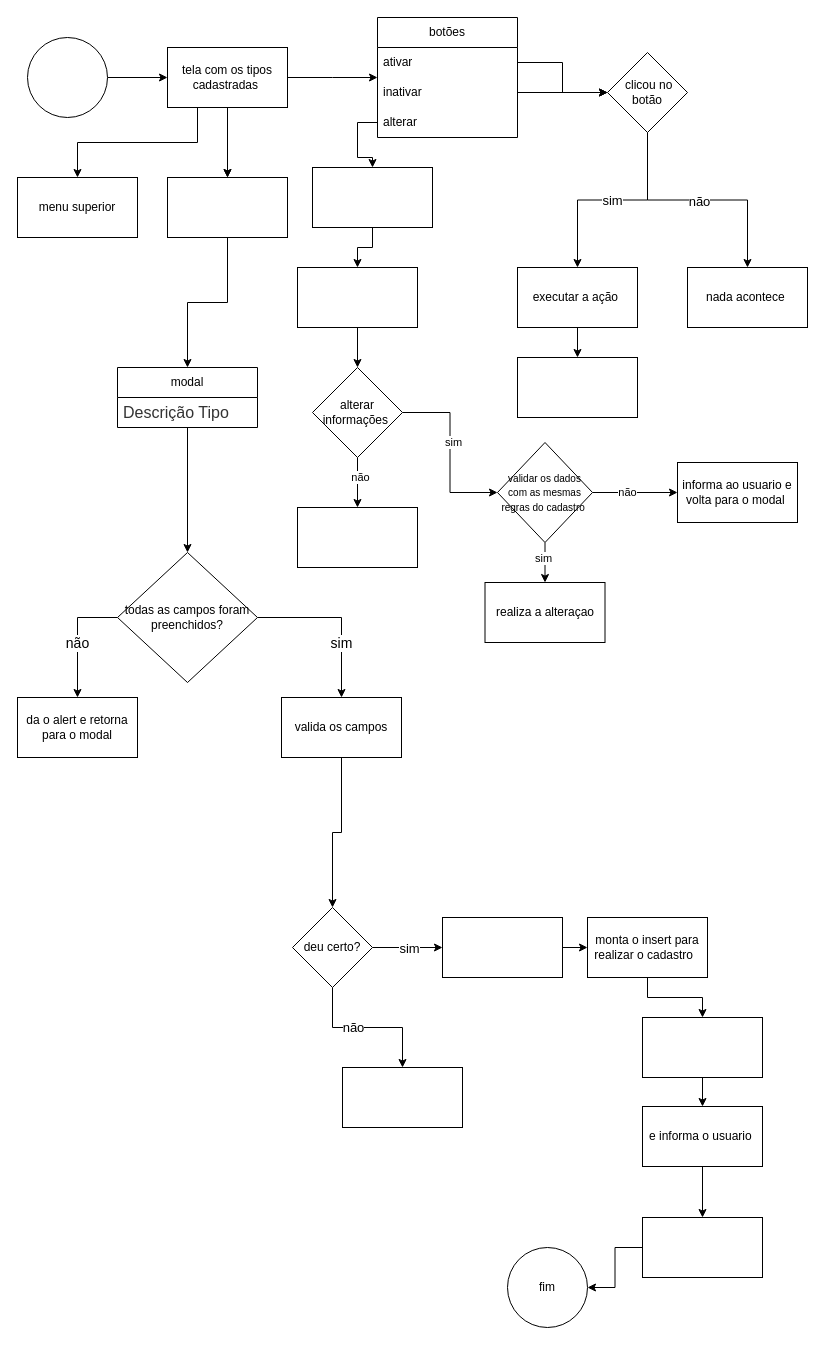
Some shapes in this 825 by 1345 pixel diagram are drawn without their labels. Each missing label, with the centre of its shape:
"abrir modal com a informação do tipo" goes at point 357,297.
"botão que abre um modal para registrar movimentações" goes at point 227,207.
"envia pro arquivo controler" goes at point 502,947.
"exibe as informaçoes dos tipos" goes at point 357,537.
"informa ao usuario e atualiza a pagina" goes at point 577,387.
"inicio" goes at point 67,77.
"realiza o cadastro" goes at point 702,1047.
"recarrega a tela" goes at point 702,1247.
"retorna para o modal" goes at point 402,1097.
